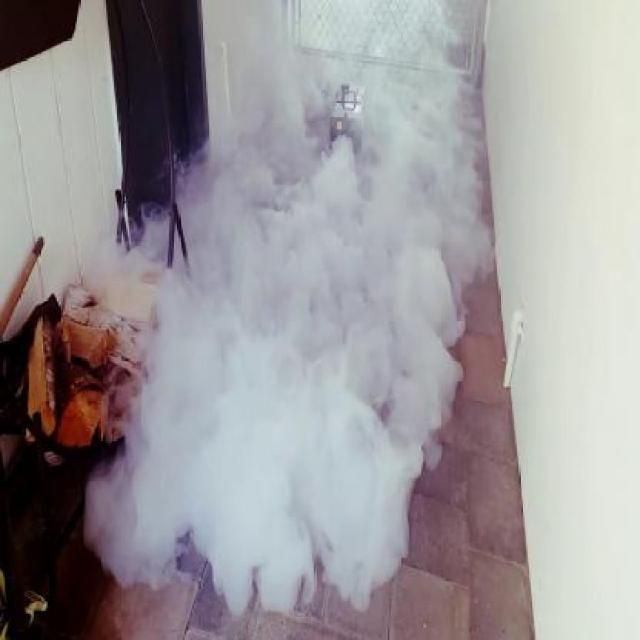smoke: (97, 170, 491, 612), (208, 10, 488, 439)
